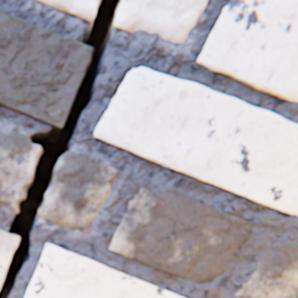brick: (93, 68, 297, 216), (108, 189, 250, 283), (0, 12, 92, 128), (196, 0, 297, 102), (25, 244, 181, 297), (234, 241, 297, 297), (0, 230, 19, 288)
broken_brick: (37, 151, 120, 230), (112, 0, 206, 44), (0, 132, 40, 212), (35, 0, 98, 23)
crack: (0, 0, 122, 297)
